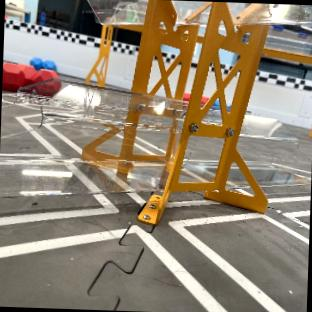V5_RED: (183, 93, 189, 100), (201, 98, 208, 103)
